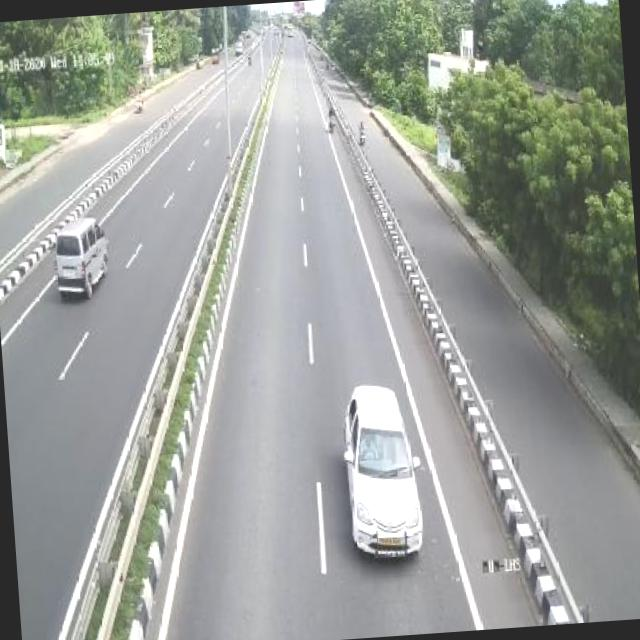car: (340, 375, 429, 557)
